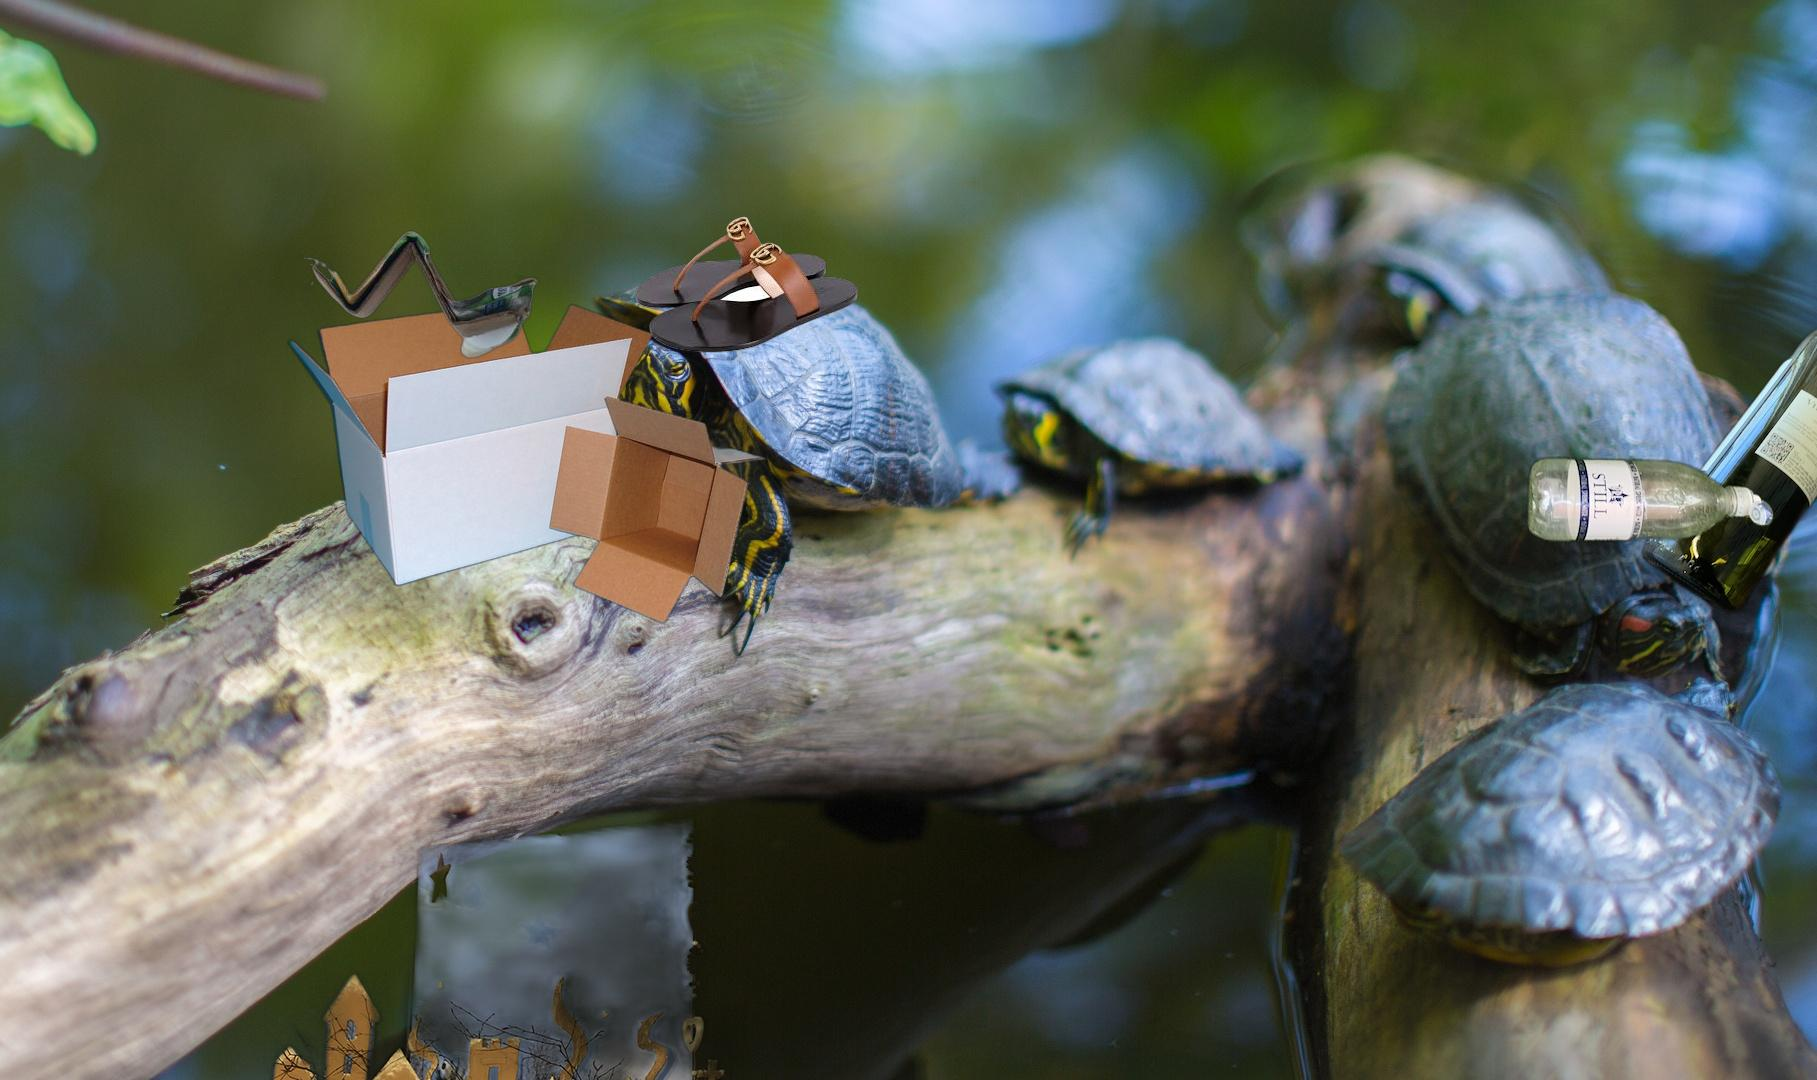glass: (1637, 258, 1817, 618)
plastic-bottles: (1521, 453, 1778, 549)
shoes: (634, 213, 858, 355)
trashbox-cardboard: (195, 714, 1108, 1080), (284, 300, 770, 627), (294, 229, 544, 361)
